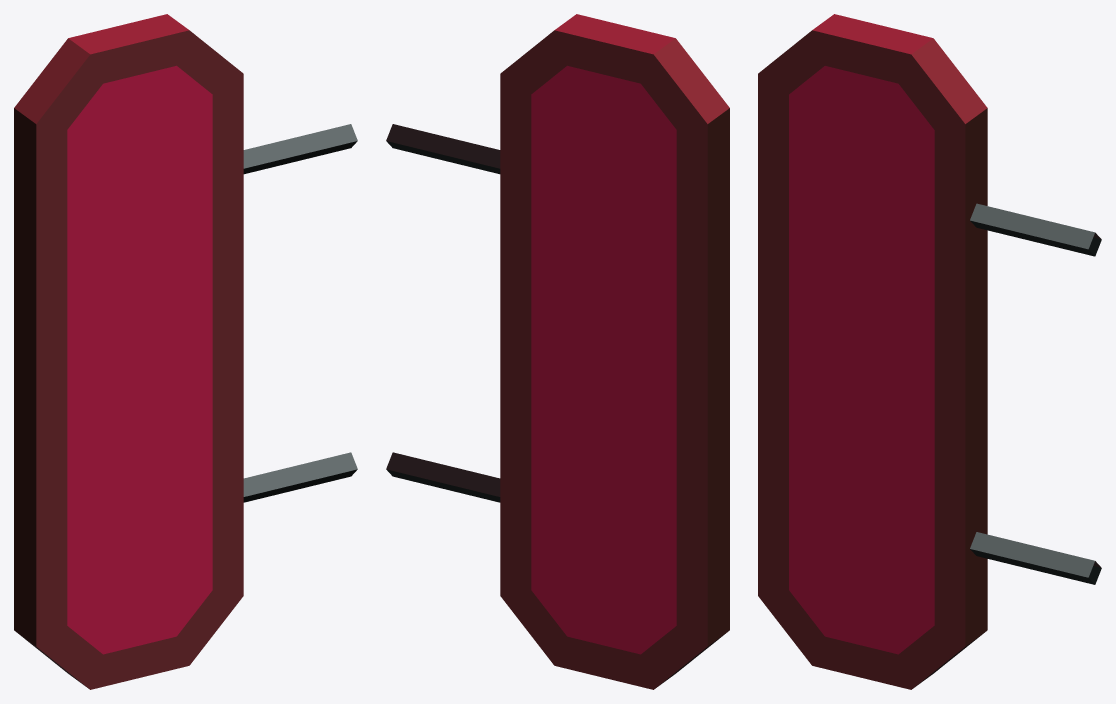
File: TB_CITY_BD_Sign_Por_C.FBX
3 renders of one model, left to right at view 1: azimuth 30°, elevation 25°; view 2: azimuth 150°, elevation 25°; view 3: azimuth 330°, elevation 25°, orthographic.
Visible parts, largest first — view 1: TB_CITY_BD_Sign_Por_C; view 2: TB_CITY_BD_Sign_Por_C; view 3: TB_CITY_BD_Sign_Por_C.
Boxes of the visible parts, left/top/right/bottom form: TB_CITY_BD_Sign_Por_C: left=14, top=14, right=357, bottom=689; TB_CITY_BD_Sign_Por_C: left=386, top=14, right=729, bottom=689; TB_CITY_BD_Sign_Por_C: left=758, top=14, right=1101, bottom=689.
Bounding box in the file's own units: 3.37 × 6.28 × 0.3982.
